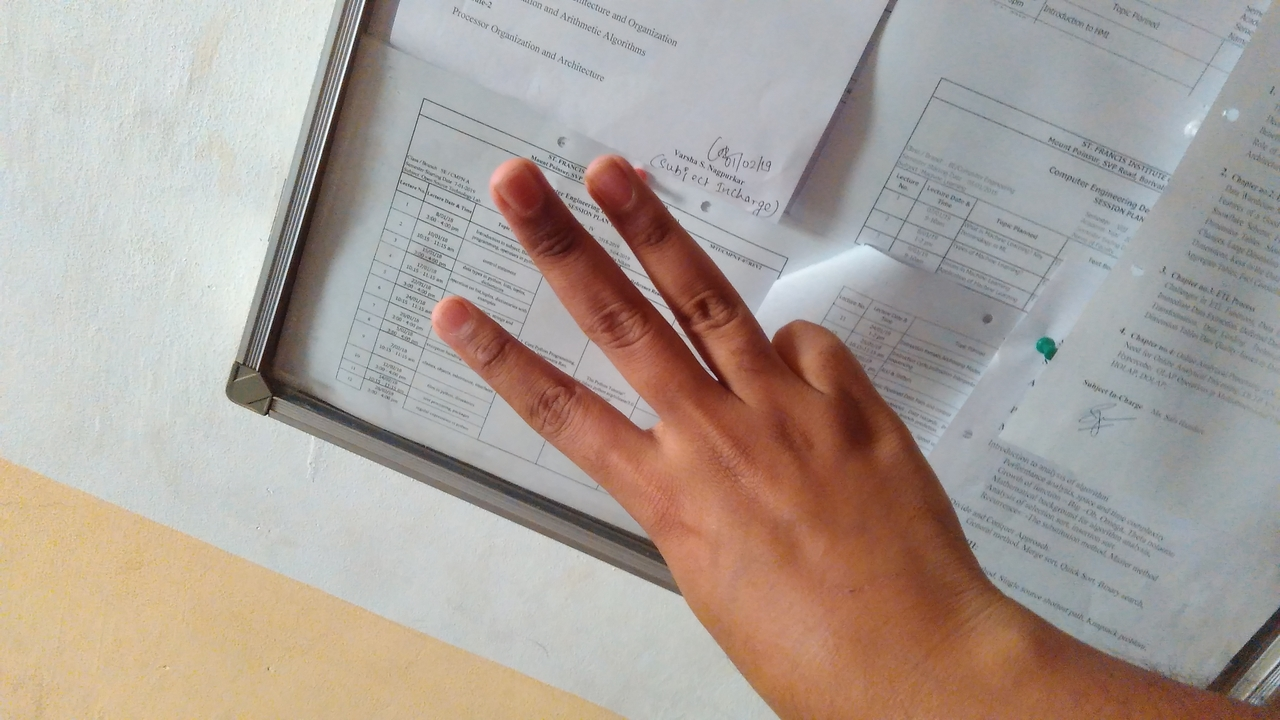fingertip: (480, 150, 554, 214), (576, 148, 644, 210), (420, 290, 484, 348)
